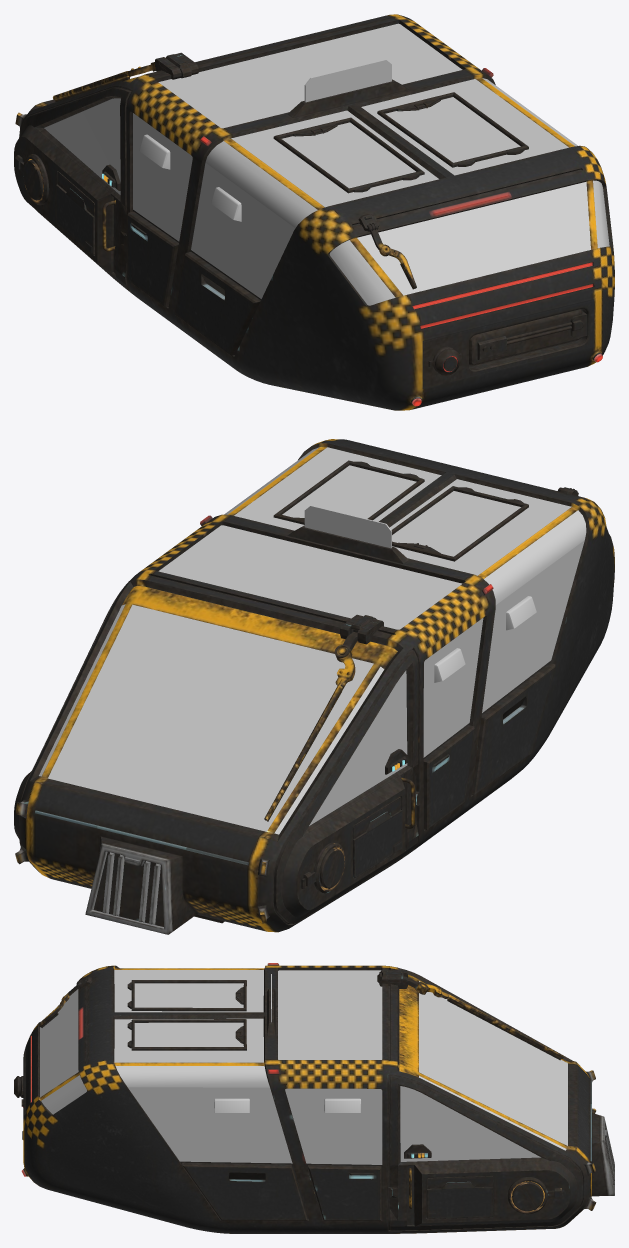
File: Taxi.fbx
The picture shows the model from 3 angles, top to bottom: view 1: azimuth 30°, elevation 25°; view 2: azimuth 150°, elevation 25°; view 3: azimuth 270°, elevation 25°; orthographic projection. The views are drawn at different scales.
Visible parts, largest first — view 1: cab_Baked_0, window-main_Baked_8, details_Baked_1, window-taxisign_Baked_9, viper-front_Baked_3, viper-rear_Baked_4; view 2: cab_Baked_0, window-main_Baked_8, viper-front_Baked_3, window-taxisign_Baked_9; view 3: cab_Baked_0, window-main_Baked_8, viper-front_Baked_3, viper-rear_Baked_4.
Boxes of the visible parts, x1,y1,x2,y2 form: cab_Baked_0: (14,14,614,410); window-main_Baked_8: (44,23,609,305); details_Baked_1: (102,200,594,388); window-taxisign_Baked_9: (304,59,391,102); viper-front_Baked_3: (53,52,198,101); viper-rear_Baked_4: (358,214,416,289); cab_Baked_0: (14,439,614,934); window-main_Baked_8: (39,447,586,834); viper-front_Baked_3: (264,614,383,821); window-taxisign_Baked_9: (304,505,391,548); cab_Baked_0: (21,963,614,1233); window-main_Baked_8: (40,970,567,1164); viper-front_Baked_3: (377,970,564,1060); viper-rear_Baked_4: (38,976,92,1027).
Size of the model in its own units: 229 by 188 by 494.
